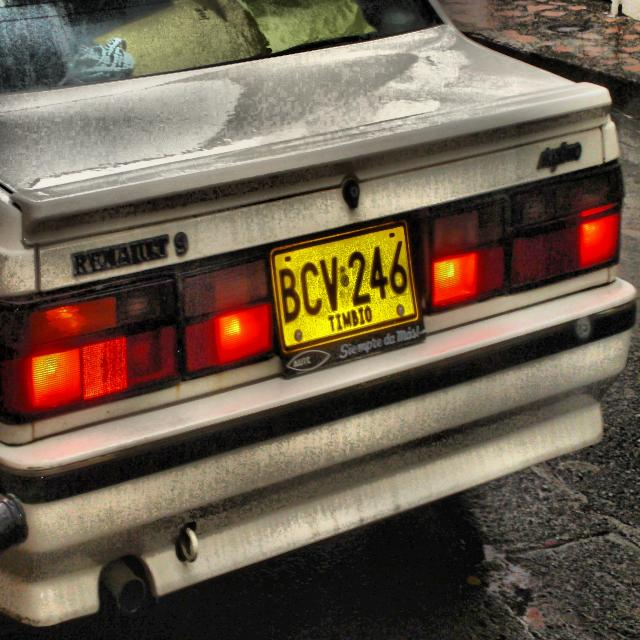plate: (270, 218, 420, 354)
